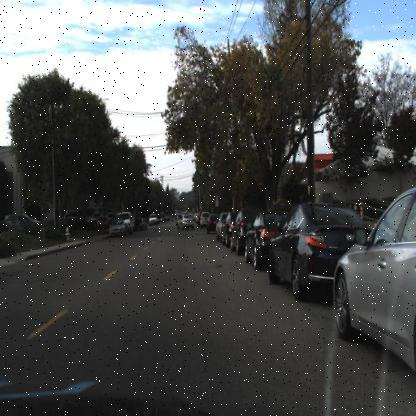car: (334, 186, 416, 381), (266, 197, 340, 299), (244, 206, 285, 274), (244, 206, 271, 273), (5, 209, 45, 235), (229, 208, 248, 257), (99, 212, 123, 236), (176, 209, 197, 230)
